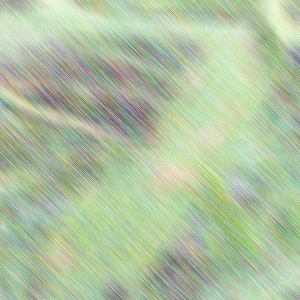Brown_Spot: (196, 116, 238, 151), (178, 63, 211, 99), (48, 237, 77, 272), (228, 25, 262, 49), (213, 94, 242, 122), (170, 104, 196, 132), (233, 56, 257, 81), (184, 90, 210, 113), (186, 167, 204, 195), (151, 162, 173, 184), (242, 74, 267, 93), (251, 40, 271, 60), (170, 164, 187, 184)
